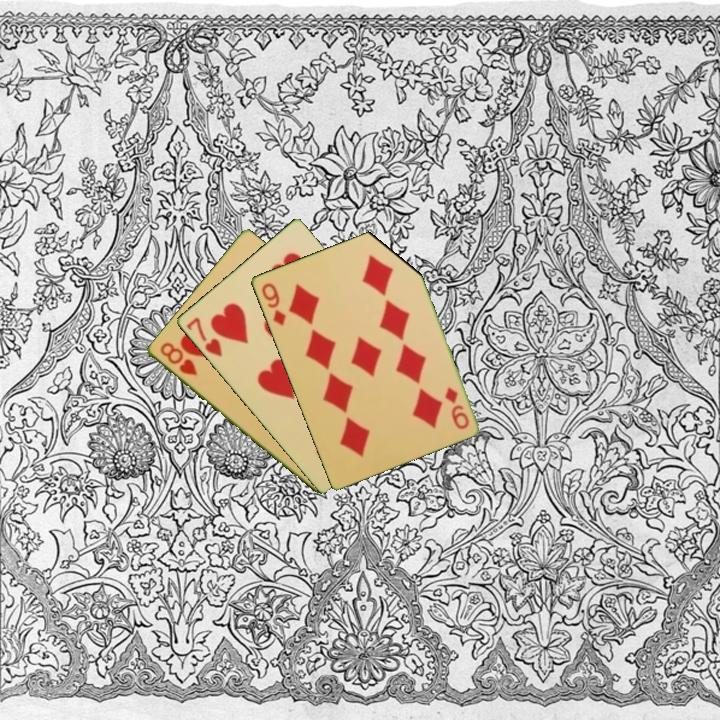7h: (182, 313, 225, 360)
8h: (156, 339, 200, 378)
9d: (257, 279, 288, 328), (441, 383, 472, 432)
